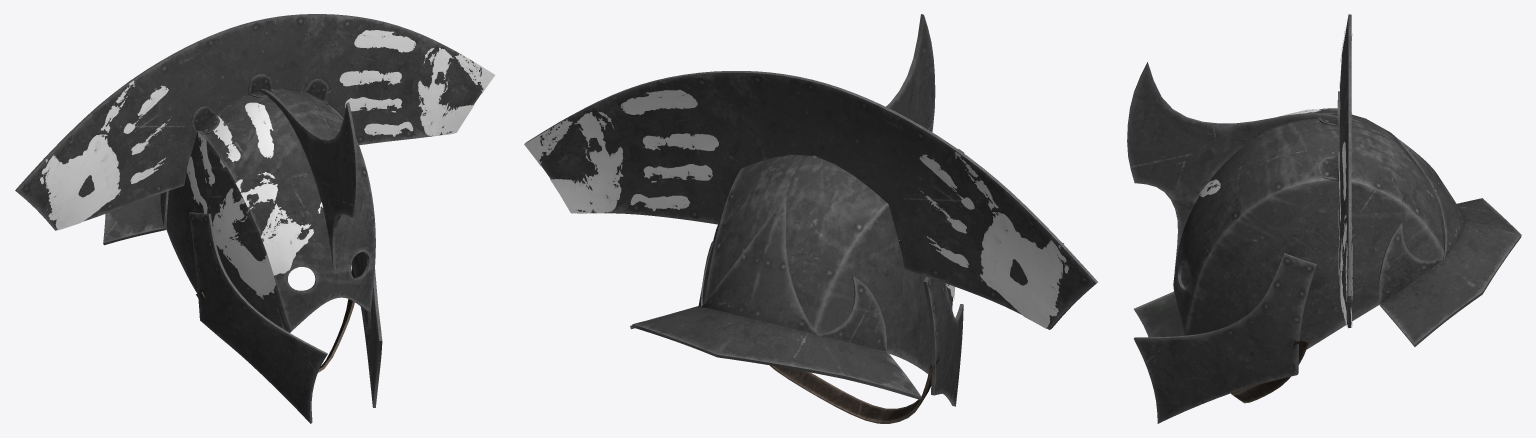
Rendered from sk_uruk_hai_helmet_command_br2.fbx.
3 renders of one model, left to right at view 1: azimuth 30°, elevation 25°; view 2: azimuth 150°, elevation 25°; view 3: azimuth 270°, elevation 25°, orthographic. The views are drawn at different scales.
Visible parts, largest first — view 1: sk_uruk_hai_helmet_command_br2.0, sk_uruk_hai_helmet_command_br2.1, sk_uruk_hai_helmet_command_br2.2; view 2: sk_uruk_hai_helmet_command_br2.0, sk_uruk_hai_helmet_command_br2.1, sk_uruk_hai_helmet_command_br2.2; view 3: sk_uruk_hai_helmet_command_br2.0, sk_uruk_hai_helmet_command_br2.1, sk_uruk_hai_helmet_command_br2.2.
Part boxes in pixels (left/top/right/bottom): sk_uruk_hai_helmet_command_br2.0: left=15, top=14, right=483, bottom=423; sk_uruk_hai_helmet_command_br2.1: left=40, top=30, right=494, bottom=299; sk_uruk_hai_helmet_command_br2.2: left=196, top=266, right=354, bottom=372; sk_uruk_hai_helmet_command_br2.0: left=525, top=14, right=1097, bottom=406; sk_uruk_hai_helmet_command_br2.1: left=524, top=89, right=1068, bottom=328; sk_uruk_hai_helmet_command_br2.2: left=770, top=356, right=939, bottom=423; sk_uruk_hai_helmet_command_br2.0: left=1127, top=14, right=1521, bottom=423; sk_uruk_hai_helmet_command_br2.1: left=1199, top=27, right=1352, bottom=327; sk_uruk_hai_helmet_command_br2.2: left=1231, top=340, right=1308, bottom=403.
Bounding box in the file's own units: 0.567 × 0.3724 × 0.3733.
3 materials, 3 textured.
